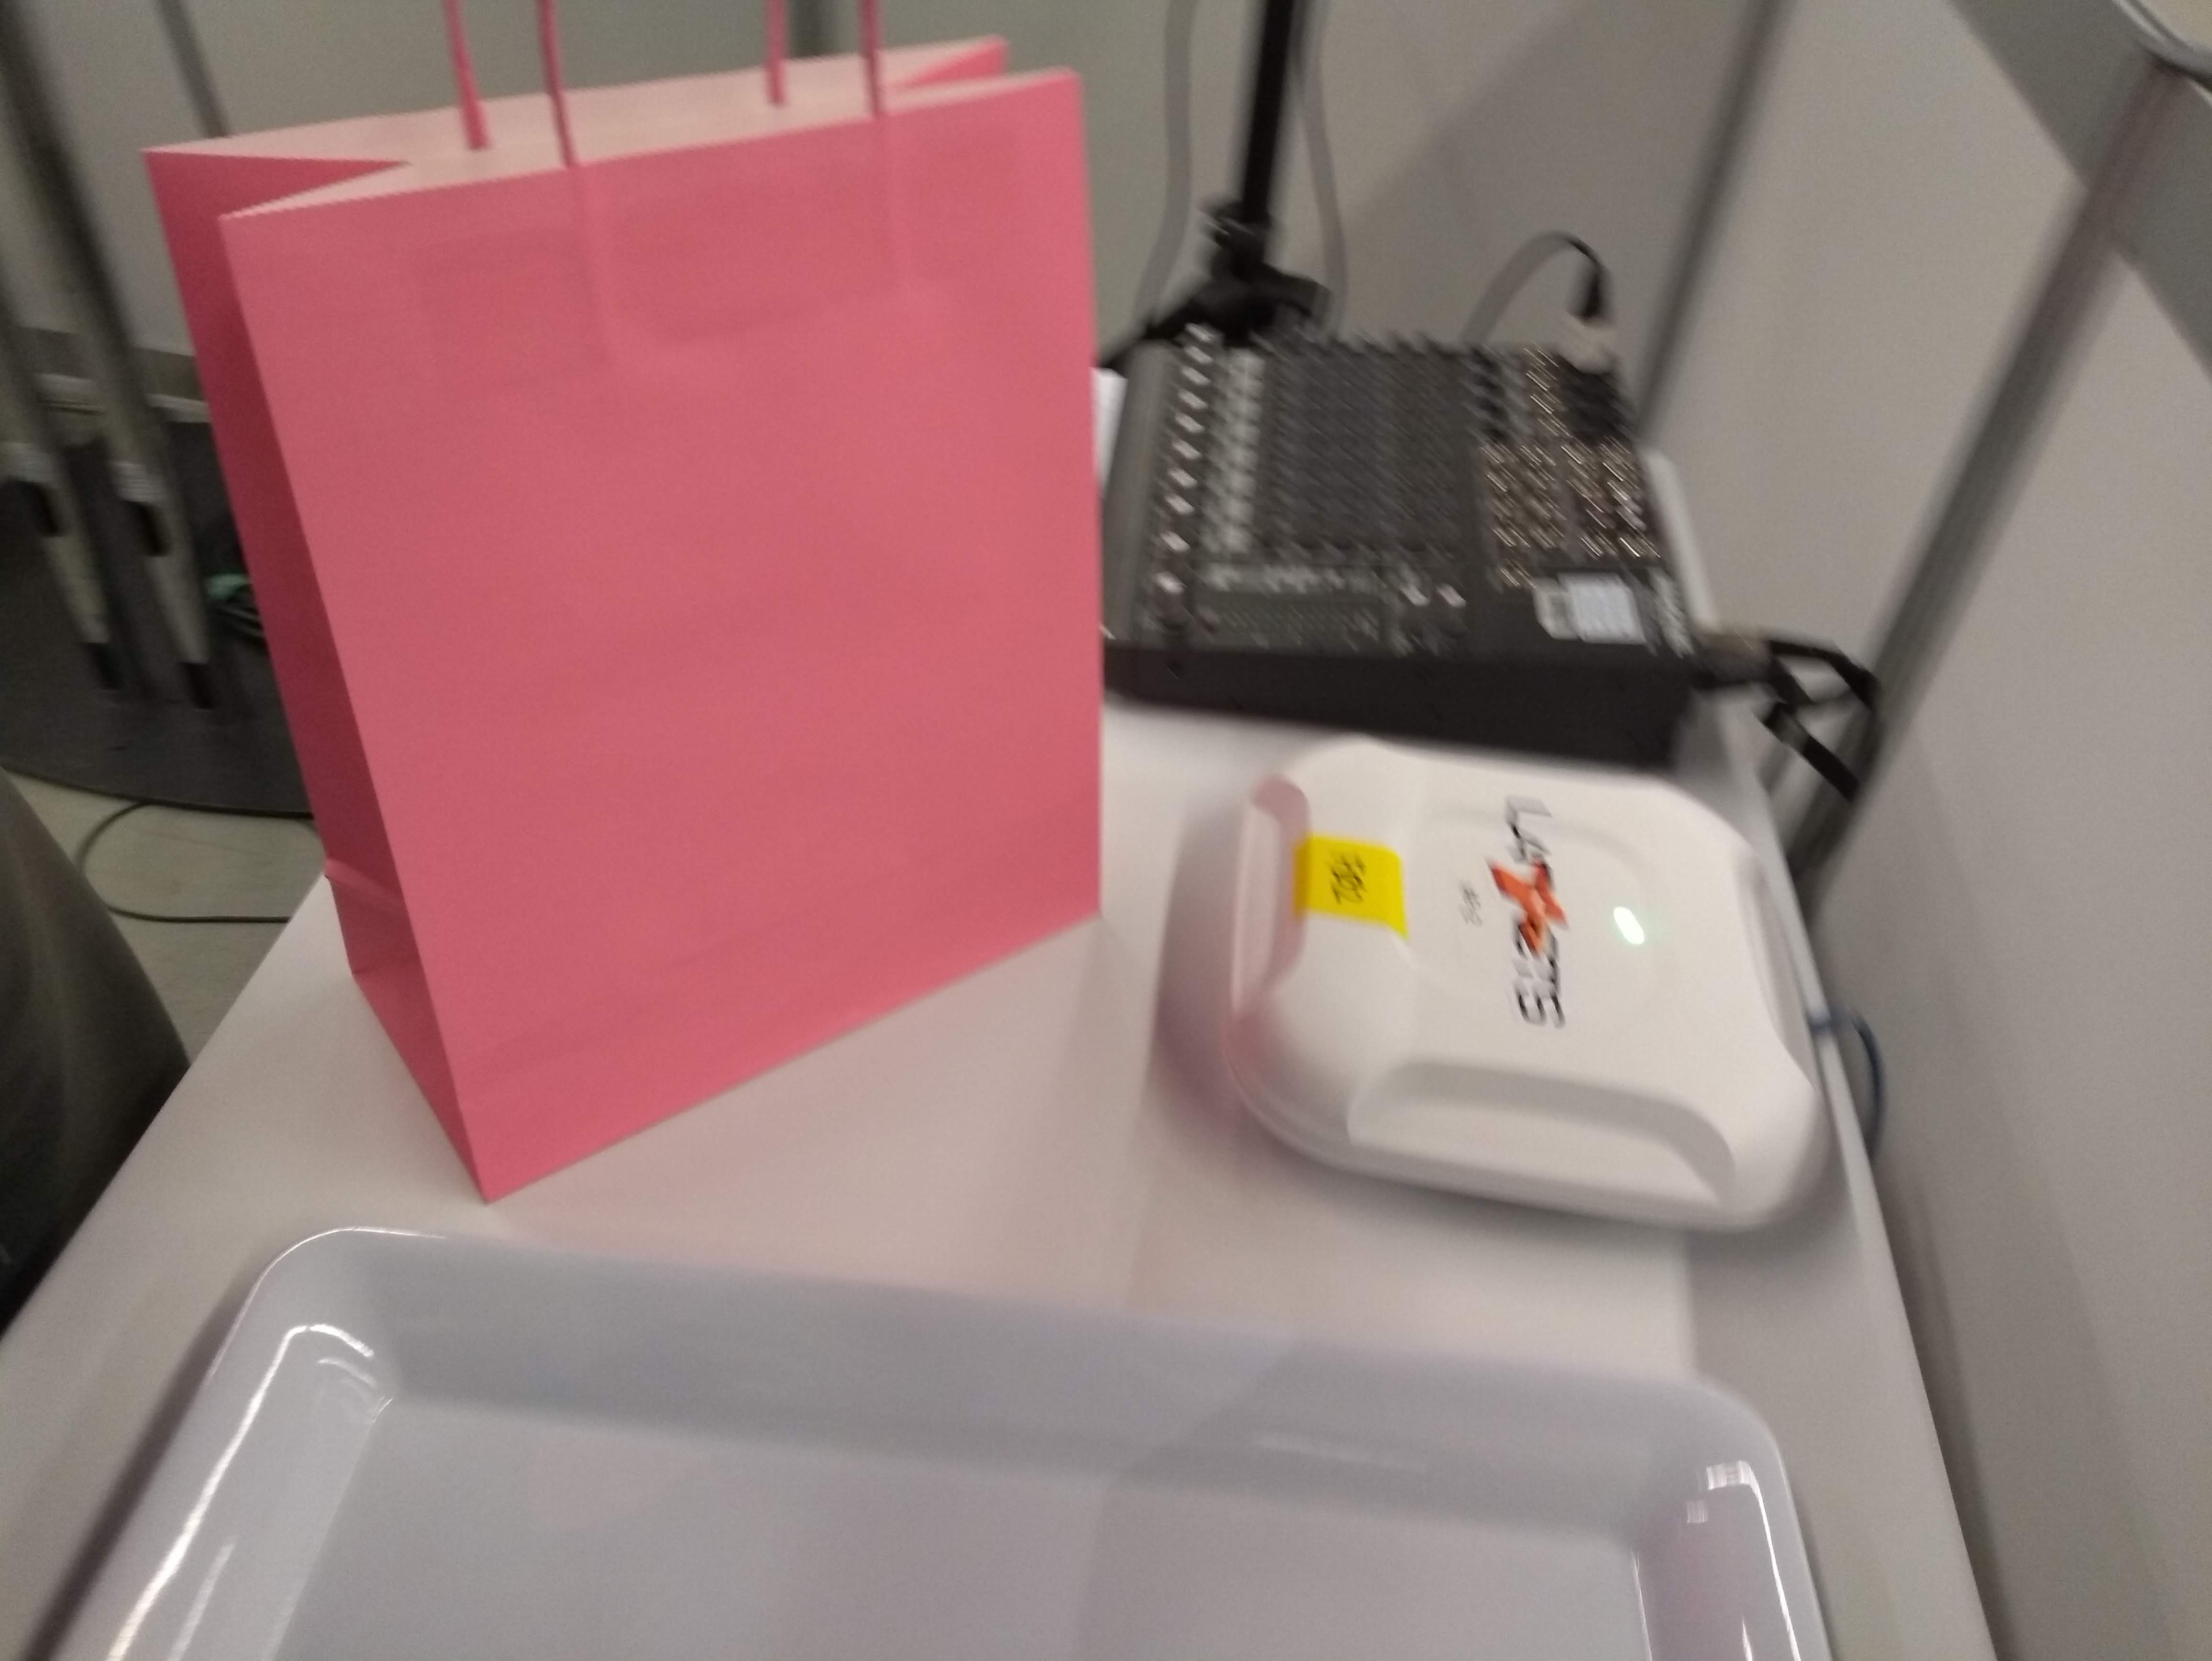help_me_carry_opl: (150, 0, 1109, 1213)
tray: (28, 1234, 1840, 1661)
